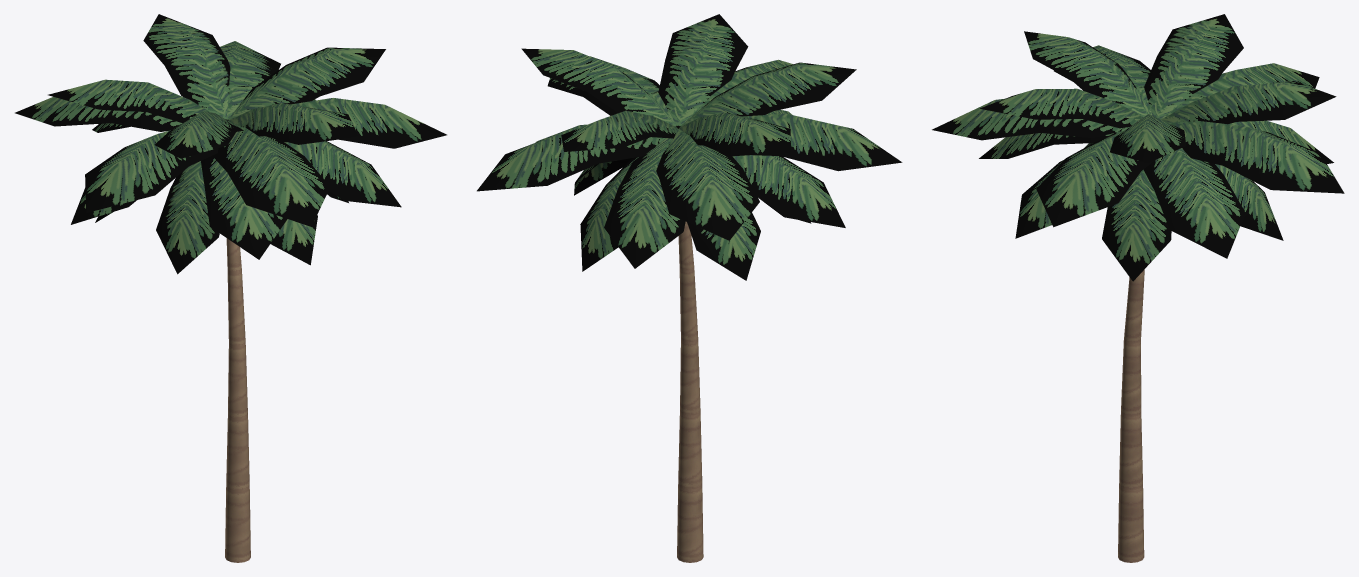
Rendered from palm_1.gltf.
The picture shows the model from 3 angles, left to right: view 1: azimuth 30°, elevation 25°; view 2: azimuth 150°, elevation 25°; view 3: azimuth 270°, elevation 25°; orthographic projection. The views are drawn at different scales.
Parts seen in each view (by area): view 1: mesh; view 2: mesh; view 3: mesh.
Boxes of the visible parts, x1,y1,x2,y2 form: mesh: (15, 14, 446, 562); mesh: (477, 14, 902, 562); mesh: (932, 14, 1344, 562).
Size of what is drawn, in the model's own units: 10.31 by 13.32 by 10.34.
Materials: 2 (2 with a texture image).
